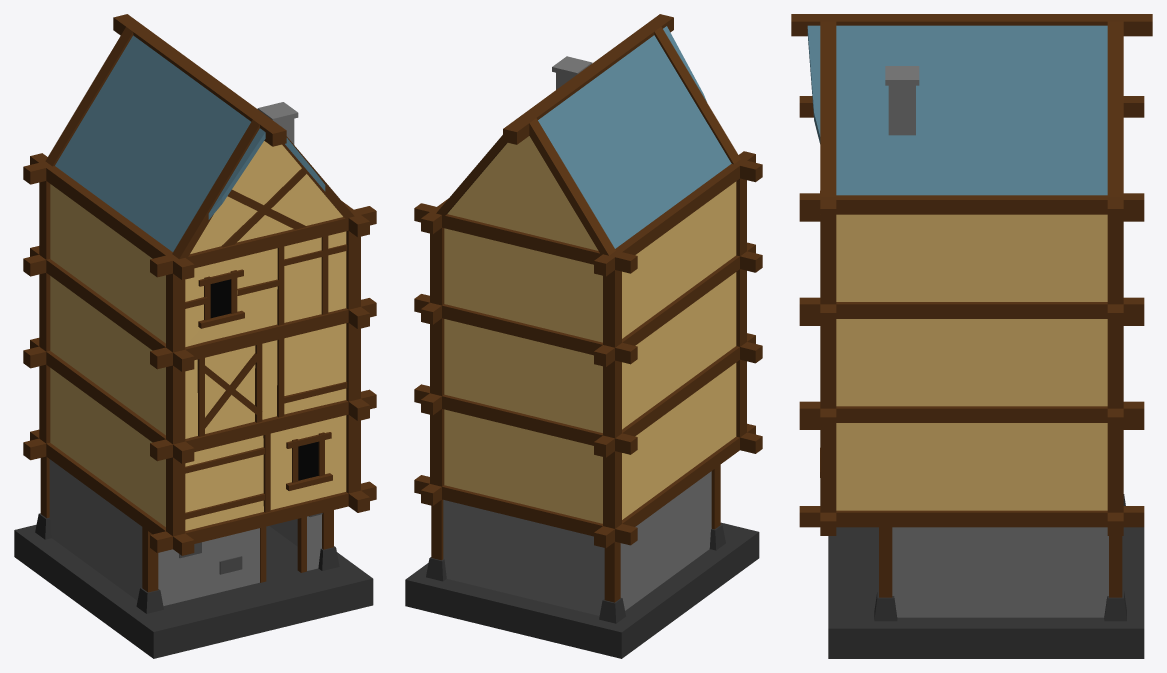
File: City_Core01_02_LOD0.fbx
3 views of the same model, side by side, from view 1: azimuth 30°, elevation 25°; view 2: azimuth 150°, elevation 25°; view 3: azimuth 270°, elevation 25° (orthographic). The views are drawn at different scales.
Visible parts, largest first — view 1: MBS_City_Core01_02_LOD0; view 2: MBS_City_Core01_02_LOD0; view 3: MBS_City_Core01_02_LOD0.
Boxes of the visible parts, x1,y1,x2,y2 form: MBS_City_Core01_02_LOD0: (14, 14, 376, 658); MBS_City_Core01_02_LOD0: (405, 14, 762, 658); MBS_City_Core01_02_LOD0: (791, 14, 1152, 658).
Bounding box in the file's own units: 1000 × 2228 × 1256.
